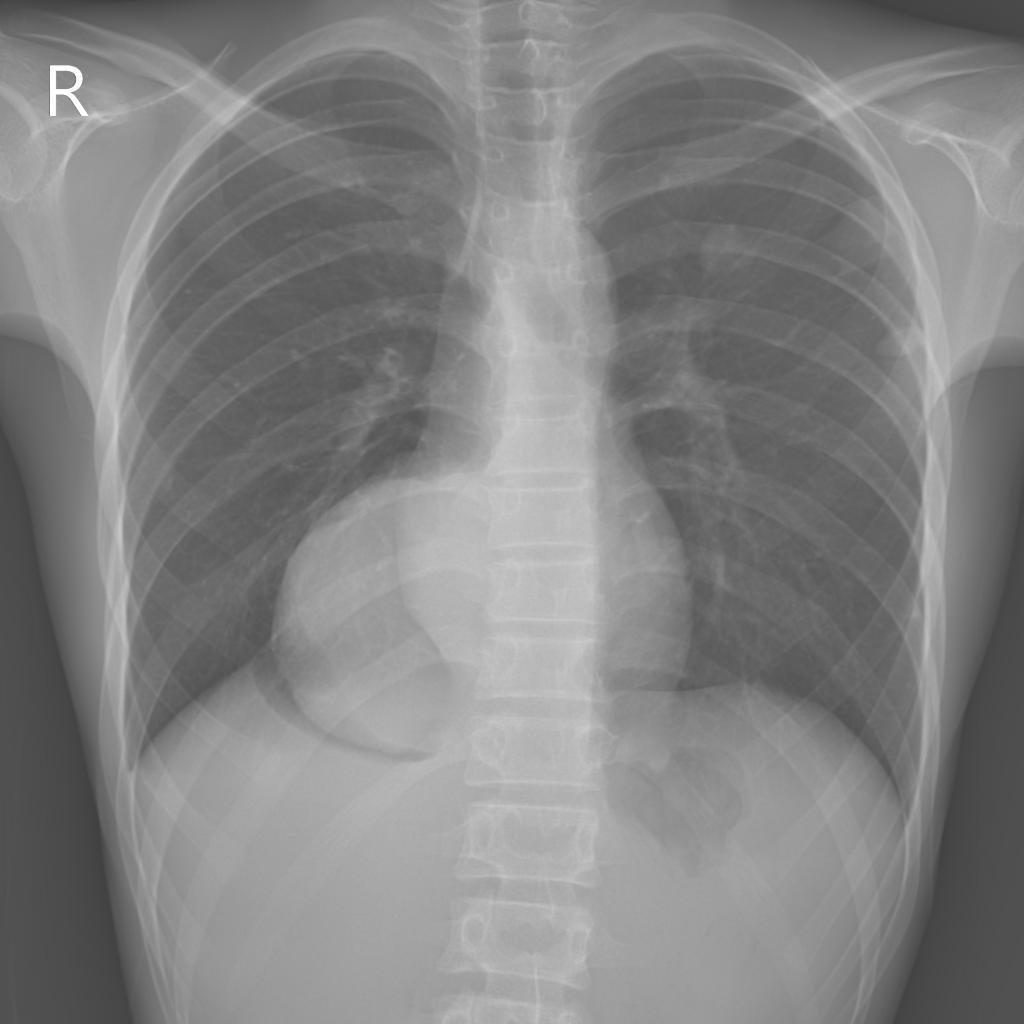Nodule: (272, 468, 498, 758), (832, 193, 902, 272), (704, 222, 748, 274), (872, 330, 929, 358)
